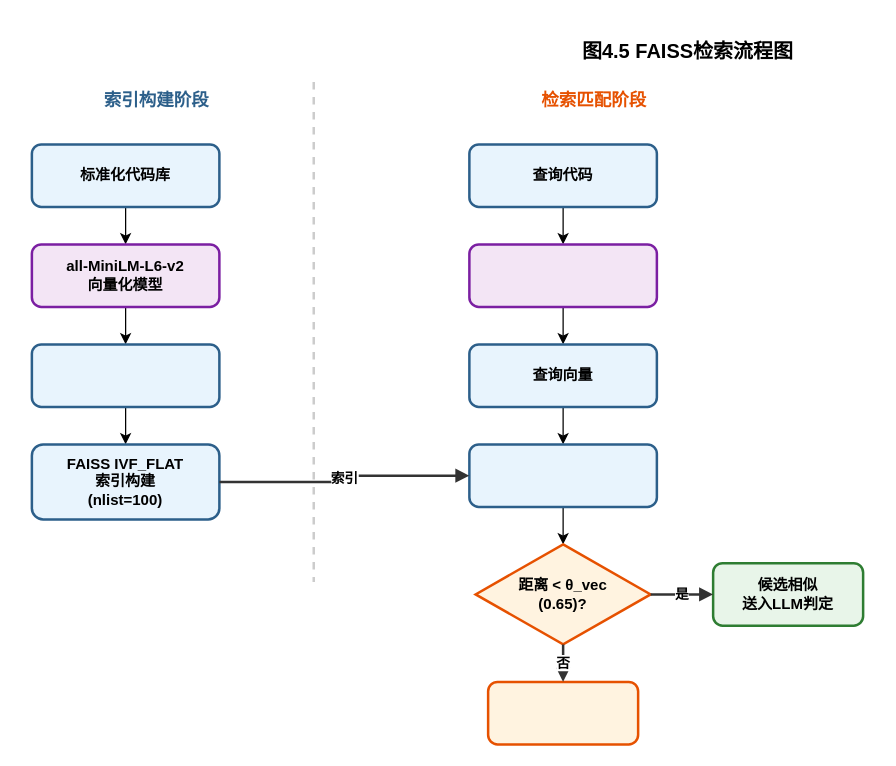
Image size: 896x766. Some labels were removed from this diagram. The centre of each missing label's shape, as x and y in pixels:
"384维稠密向量" goes at pixel 125 375.
"all-MiniLM-L6-v2 向量化" goes at pixel 563 275.
"FAISS Top-K 近似最近邻检索" goes at pixel 563 475.
"判定为不相似 流程终止" goes at pixel 562 712.
